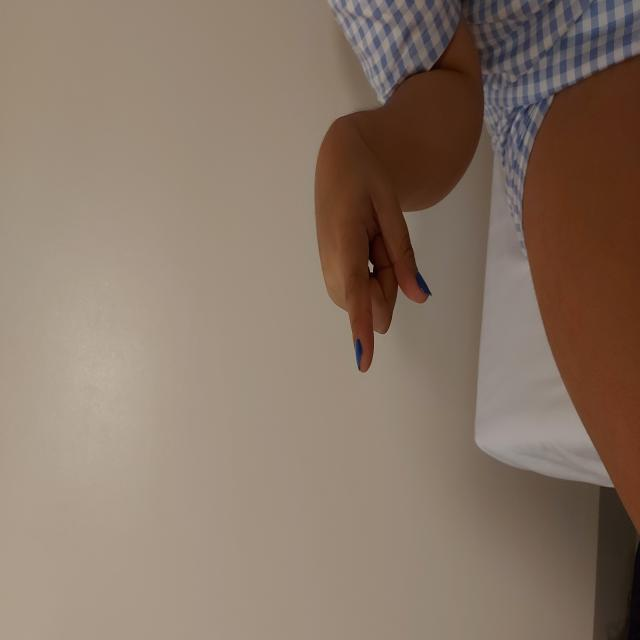Z: (264, 312, 530, 434)
